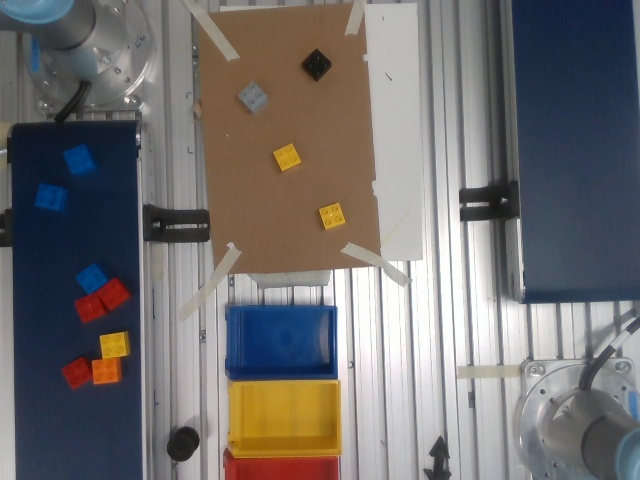duplo_4_yellow: (266, 136, 306, 175), (314, 199, 349, 231)
ignore: (296, 49, 336, 84), (234, 79, 270, 115)
